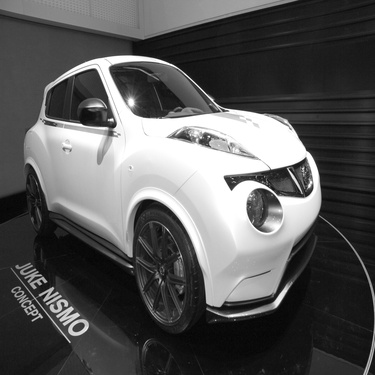car: (20, 48, 328, 337)
